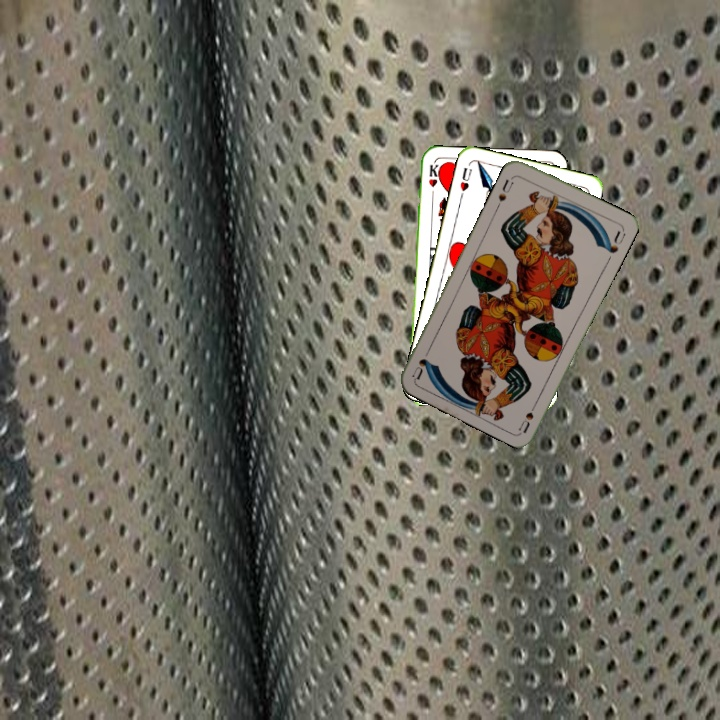HK: (425, 160, 441, 201)
HU: (456, 163, 474, 201)
SU: (515, 395, 541, 434), (494, 175, 516, 204)
